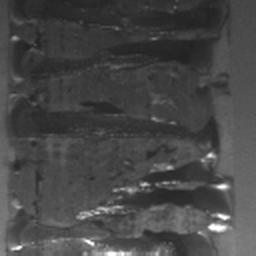Slag inclusion: (3, 0, 241, 253)
